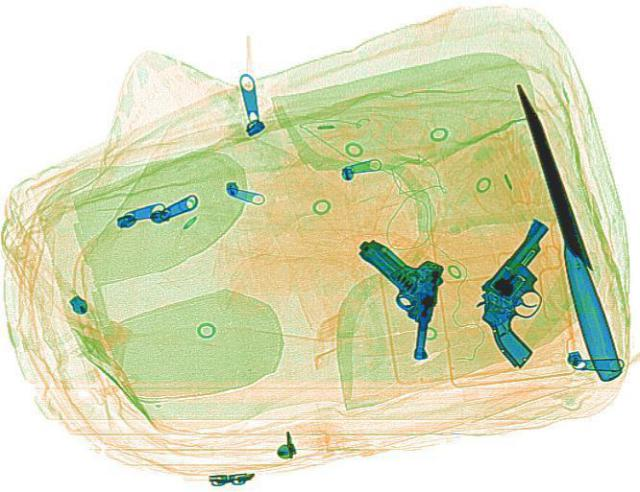Gun: (443, 217, 604, 367), (332, 238, 450, 356)
Knife: (507, 81, 623, 379)
